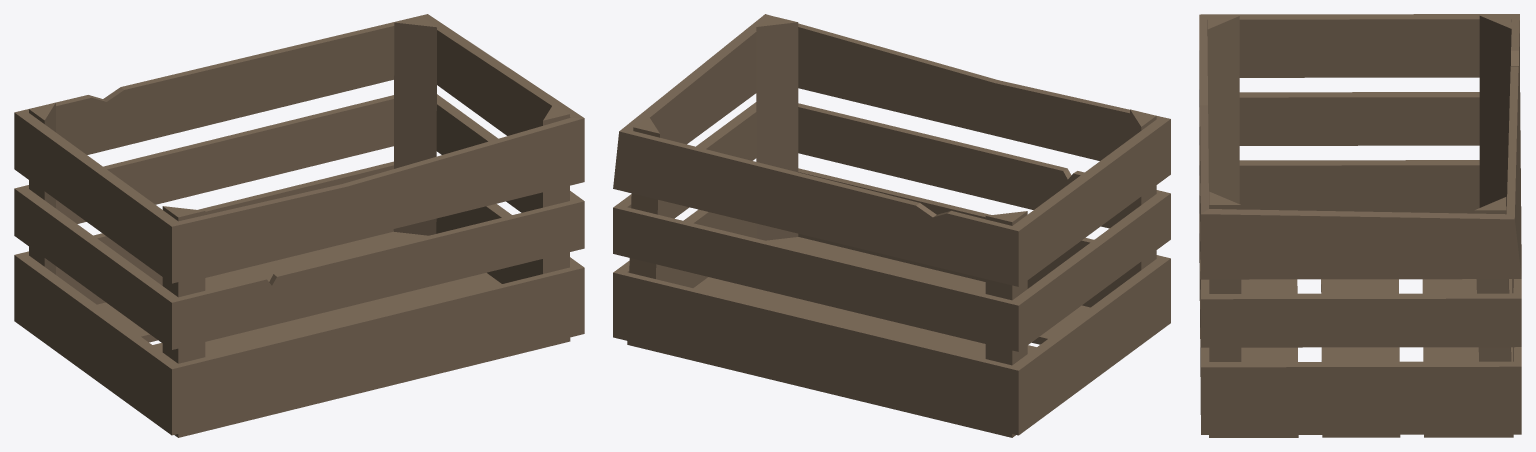
File: box_wood_open.fbx
The picture shows the model from 3 angles, left to right: view 1: azimuth 30°, elevation 25°; view 2: azimuth 150°, elevation 25°; view 3: azimuth 270°, elevation 25°; orthographic projection. The views are drawn at different scales.
Visible parts, largest first — view 1: box_wood_open; view 2: box_wood_open; view 3: box_wood_open.
Boxes of the visible parts, x1=… form: box_wood_open: x1=14, y1=14, x2=584, y2=437; box_wood_open: x1=613, y1=14, x2=1170, y2=437; box_wood_open: x1=1199, y1=14, x2=1521, y2=437.
Size of the model in its own units: 1.4 by 0.7352 by 0.9231.
